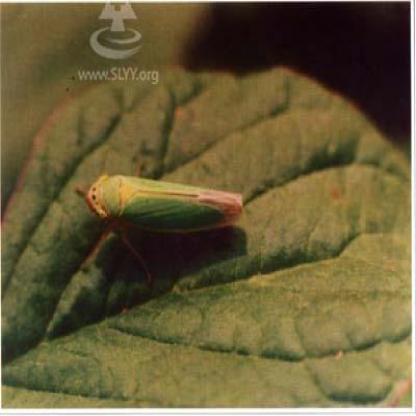Green-Leafhopper: (84, 160, 249, 266)
